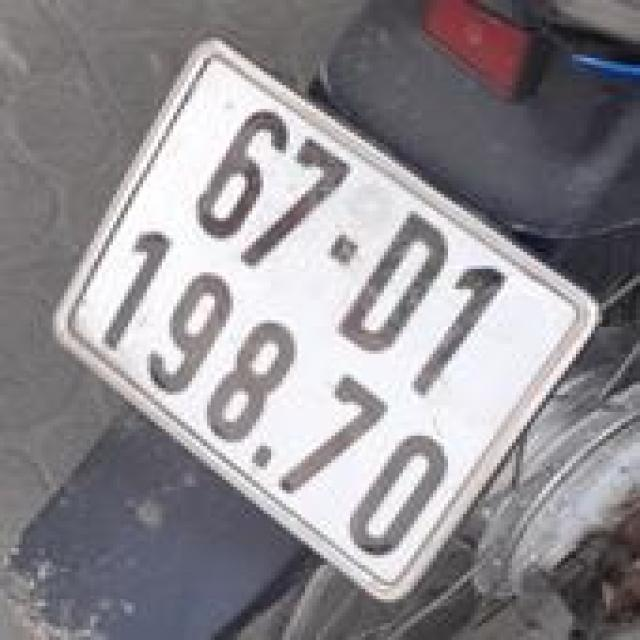0: (327, 410, 472, 577)
1: (389, 244, 531, 417), (82, 215, 195, 371)
6: (181, 97, 306, 256)
7: (228, 127, 367, 285), (266, 364, 401, 509)
8: (191, 299, 319, 457)
9: (135, 256, 254, 409)
D: (323, 194, 474, 371)
